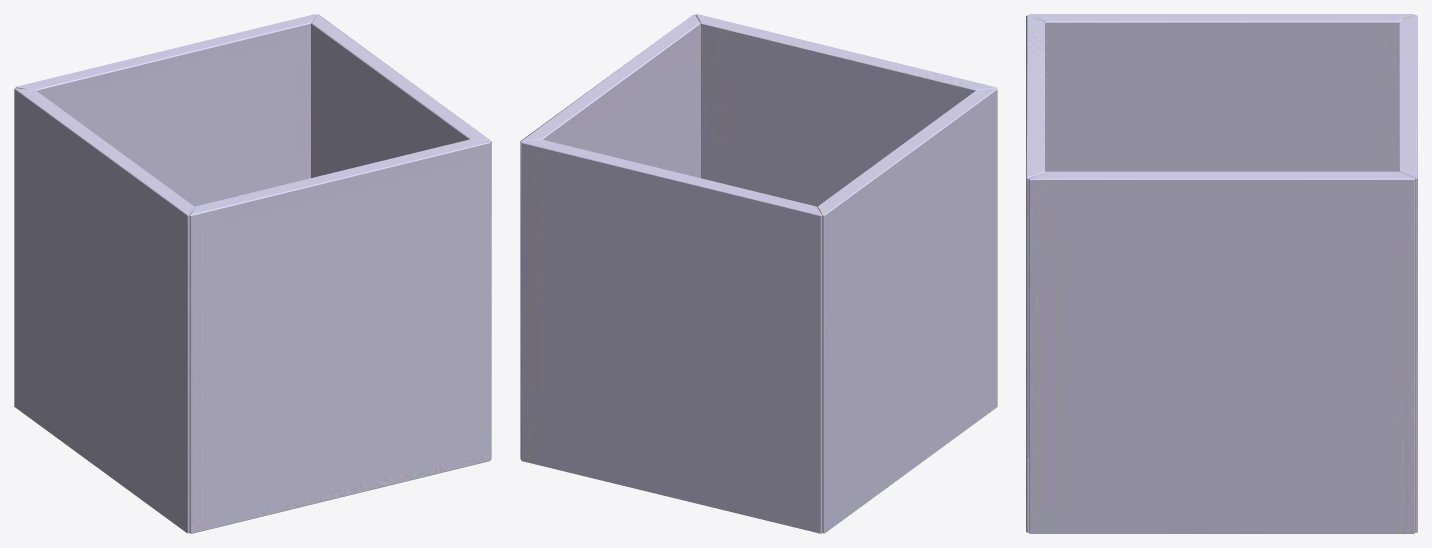
The model's file is 22 - EKET Cabinet - pale lilac 35x35x35 cm.glb.
The picture shows the model from 3 angles, left to right: view 1: azimuth 30°, elevation 25°; view 2: azimuth 150°, elevation 25°; view 3: azimuth 270°, elevation 25°; orthographic projection. The views are drawn at different scales.
Visible parts, largest first — view 1: ASY_ART_20595523_S01_NV01; view 2: ASY_ART_20595523_S01_NV01; view 3: ASY_ART_20595523_S01_NV01.
Boxes of the visible parts, <box> form: ASY_ART_20595523_S01_NV01: <box>14,14,491,533</box>; ASY_ART_20595523_S01_NV01: <box>520,14,997,533</box>; ASY_ART_20595523_S01_NV01: <box>1026,14,1417,533</box>.
Bounding box in the file's own units: 0.35 × 0.363 × 0.35.
1 material, 1 textured.
